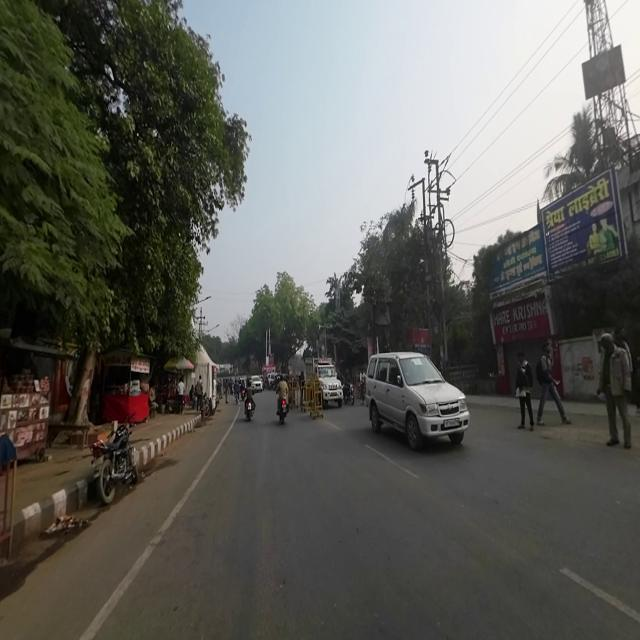Garbage: (44, 512, 78, 537)
